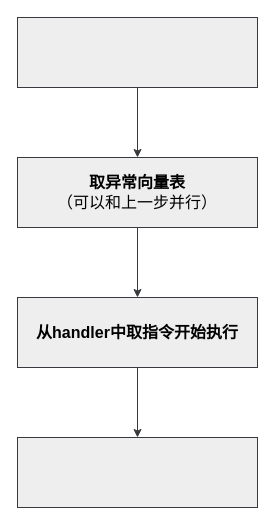
Image size: 275x525. Some labels were removed from this diagram. Here are the shapes that lost their labels. From the top down, the centre of each, then its label:
At (x=137, y=52): "Stacking 寄存器 （将寄存器压入stack内存区域）".
At (x=137, y=472): "更新NVIC寄存器和Core寄存器".
